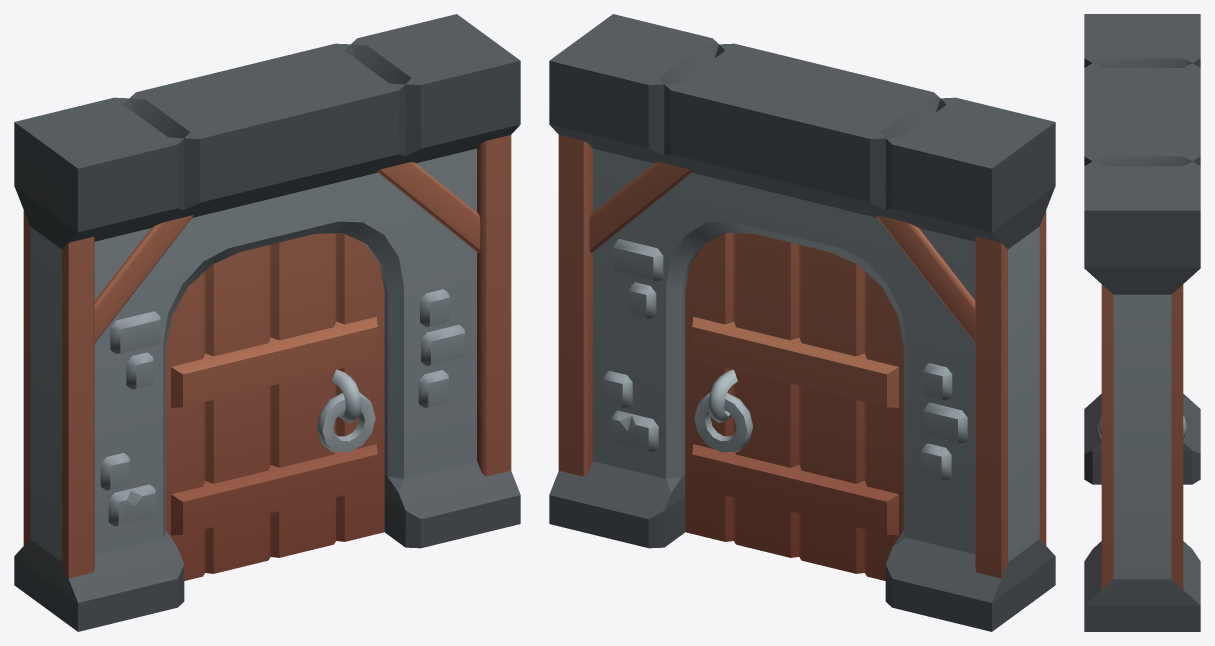
File: wall_doorway_scaffold.gltf
3 renders of one model, left to right at view 1: azimuth 30°, elevation 25°; view 2: azimuth 150°, elevation 25°; view 3: azimuth 270°, elevation 25°, orthographic. The views are drawn at different scales.
Parts seen in each view (by area): view 1: wall_doorway_scaffold, wall_doorway_scaffold_door; view 2: wall_doorway_scaffold, wall_doorway_scaffold_door; view 3: wall_doorway_scaffold.
Boxes of the visible parts, <box> form: wall_doorway_scaffold: <box>14,14,520,631</box>; wall_doorway_scaffold_door: <box>166,233,384,580</box>; wall_doorway_scaffold: <box>549,14,1055,631</box>; wall_doorway_scaffold_door: <box>685,233,903,580</box>; wall_doorway_scaffold: <box>1084,14,1200,631</box>.
Size of the model in its own units: 4 by 4 by 1.
1 material, 1 textured.
